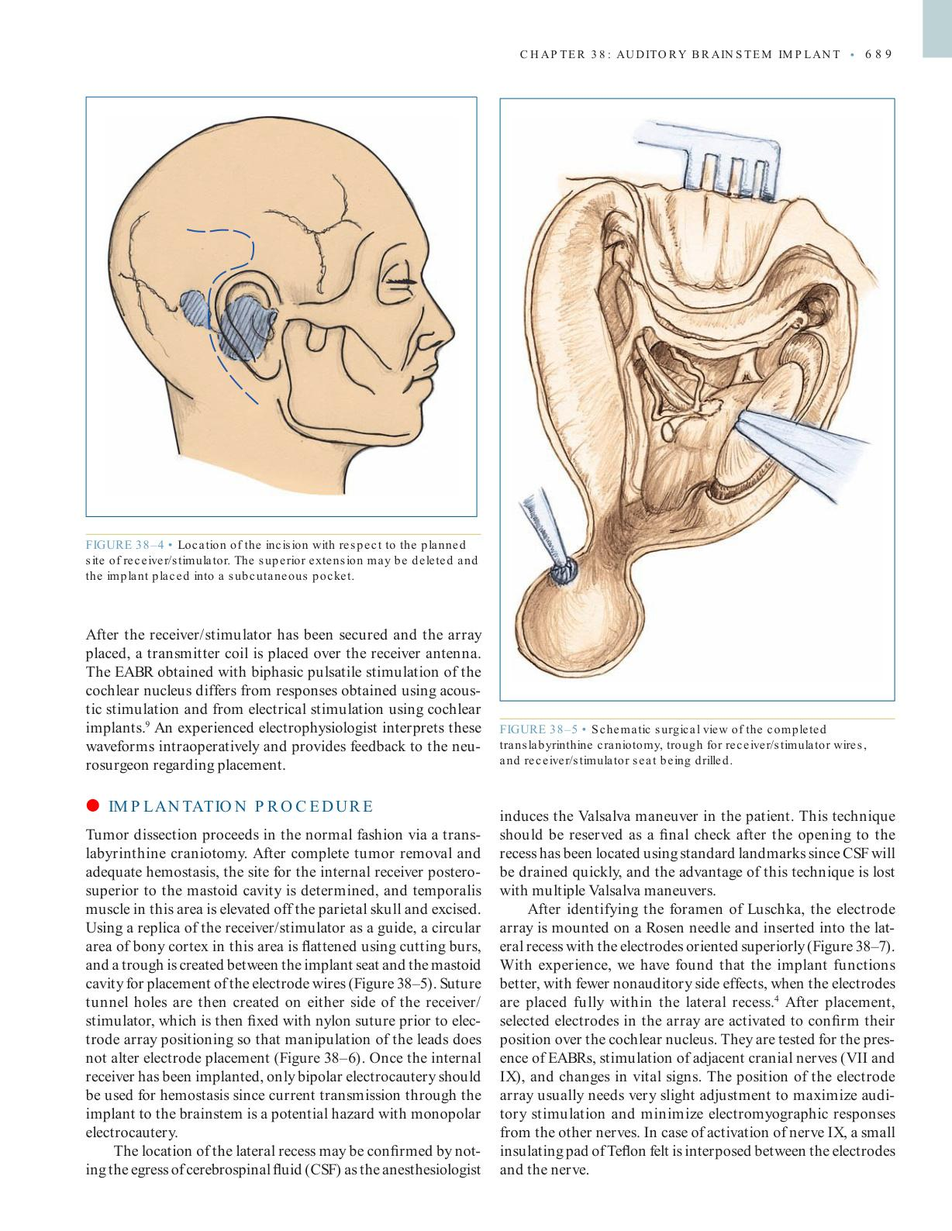caption: (84, 536, 479, 585), (498, 722, 868, 768)
header: (519, 48, 842, 60)
image: (505, 103, 893, 694), (91, 102, 471, 511)
section-heading: (107, 798, 375, 813)
text: (498, 807, 899, 1179), (83, 825, 483, 1180), (84, 626, 483, 775)
